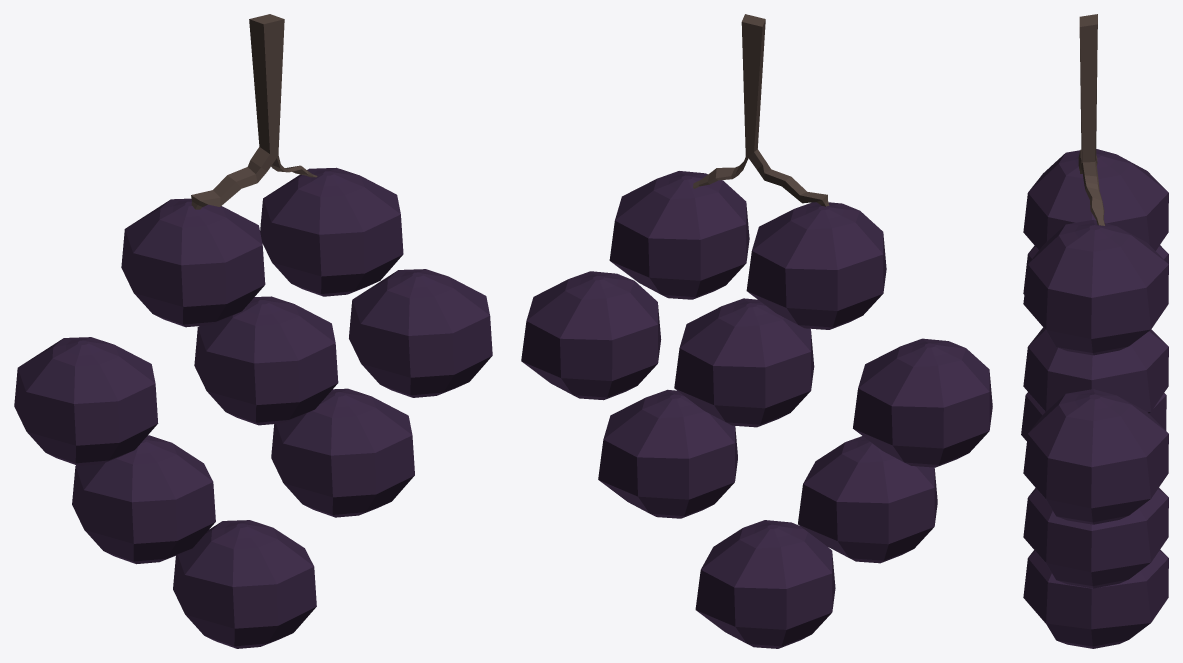
File: grapes1.fbx
The picture shows the model from 3 angles, left to right: view 1: azimuth 30°, elevation 25°; view 2: azimuth 150°, elevation 25°; view 3: azimuth 270°, elevation 25°; orthographic projection. The views are drawn at different scales.
Visible parts, largest first — view 1: GRAPES; view 2: GRAPES; view 3: GRAPES.
Part boxes in pixels (x1,y1,x2,y2): GRAPES: [14, 14, 492, 648]; GRAPES: [521, 14, 992, 648]; GRAPES: [1021, 14, 1168, 648].
Size of the model in its own units: 3.03 by 3.89 by 0.8253.
